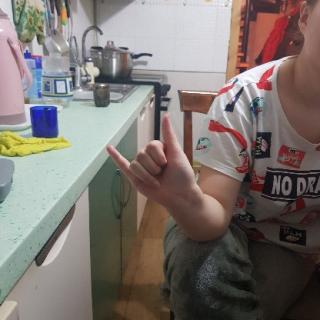YA: (106, 114, 202, 208)
